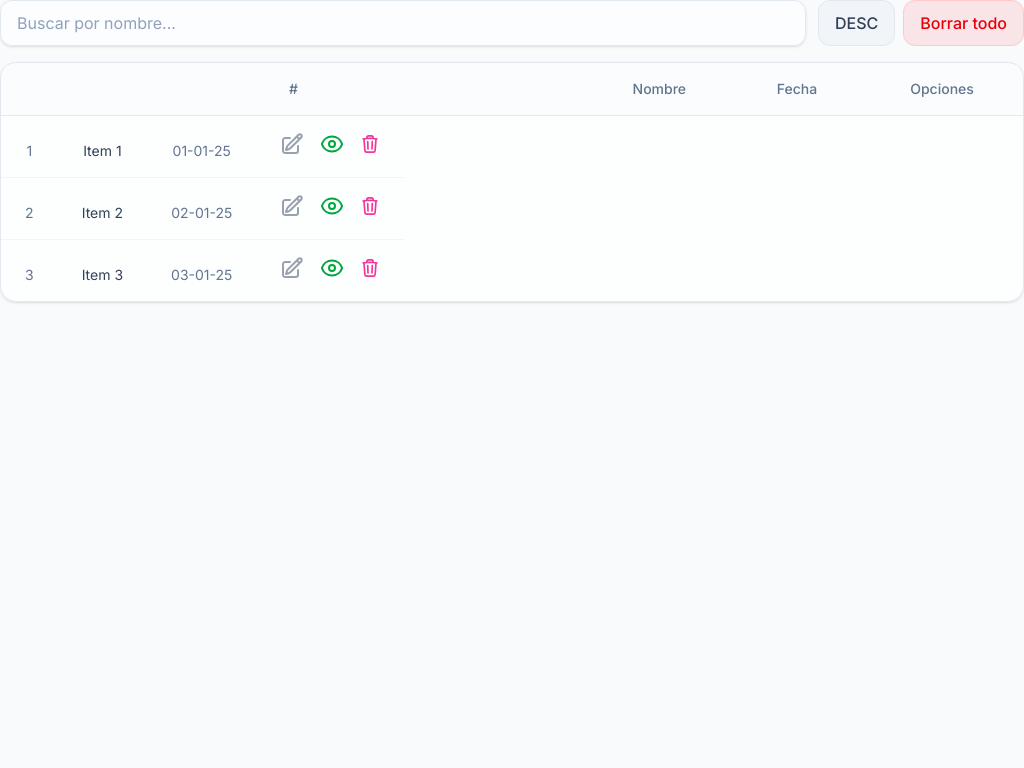
it: BaseTable.vue › opens confirm modal when "Borrar todo" is clicked
Click the button "Borrar todo" at (964, 23), box [903,0,1023,46]
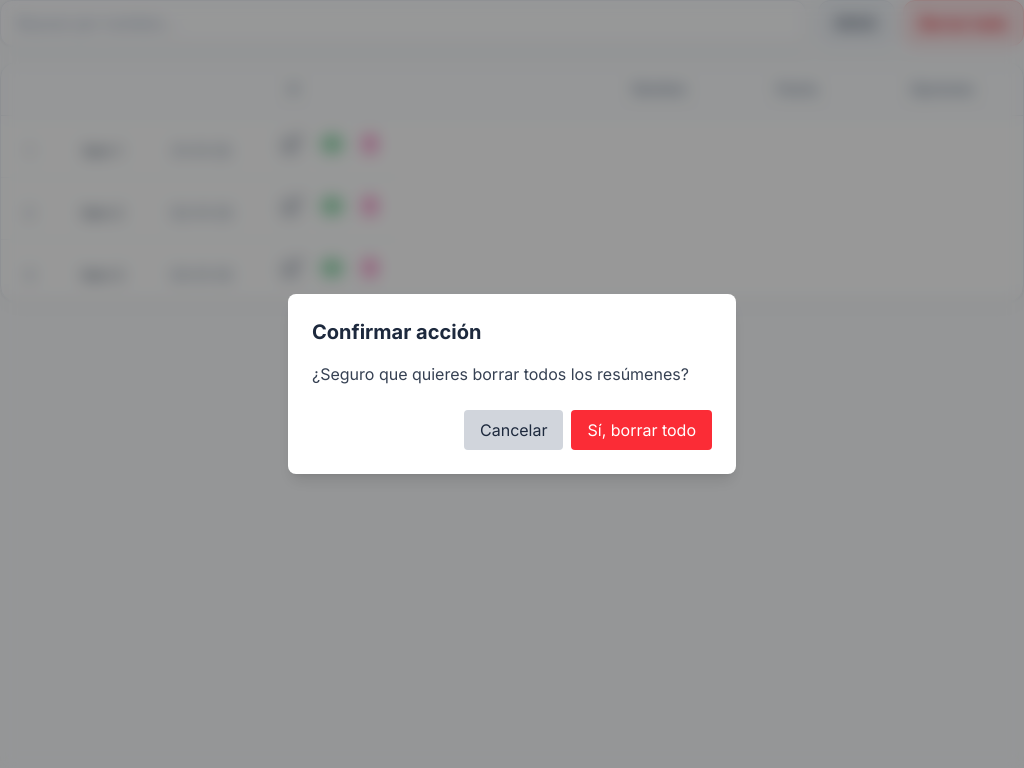
Expected: the text "¿Seguro que quieres borrar todos los resúmenes?" is shown, [312,362,712,386]
